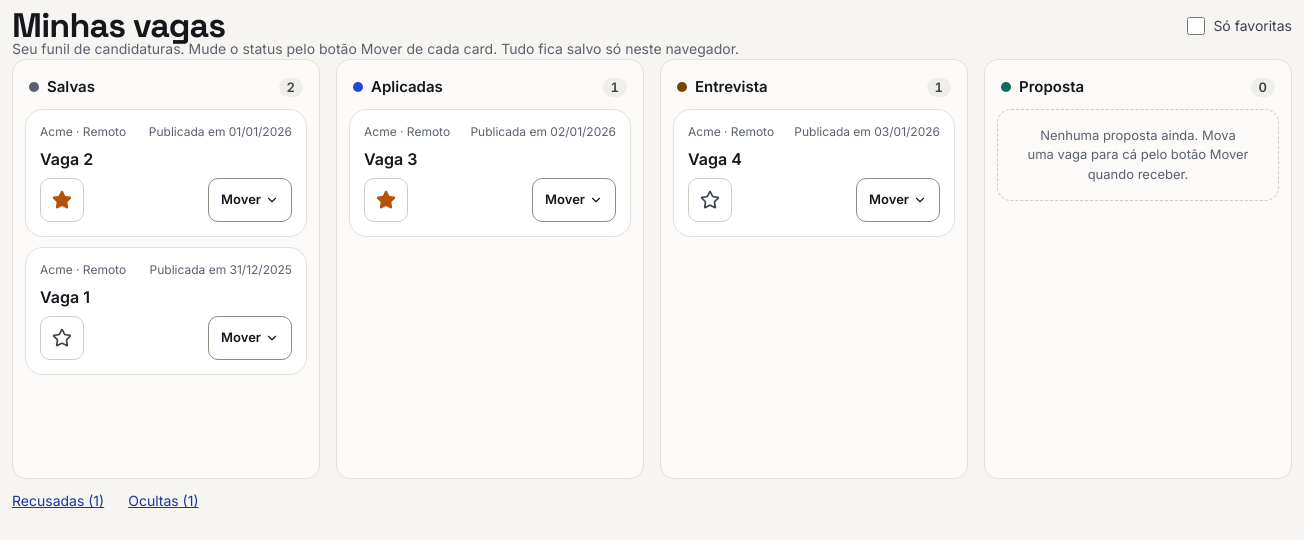
Test: Board (funil) › Recusadas e Ocultas abrem a lista filtrada na mesma tela
The width and height of the screenshot is (1304, 540).
Click the button "Ocultas (1)" at x=163, y=501, box [128,479,198,523]
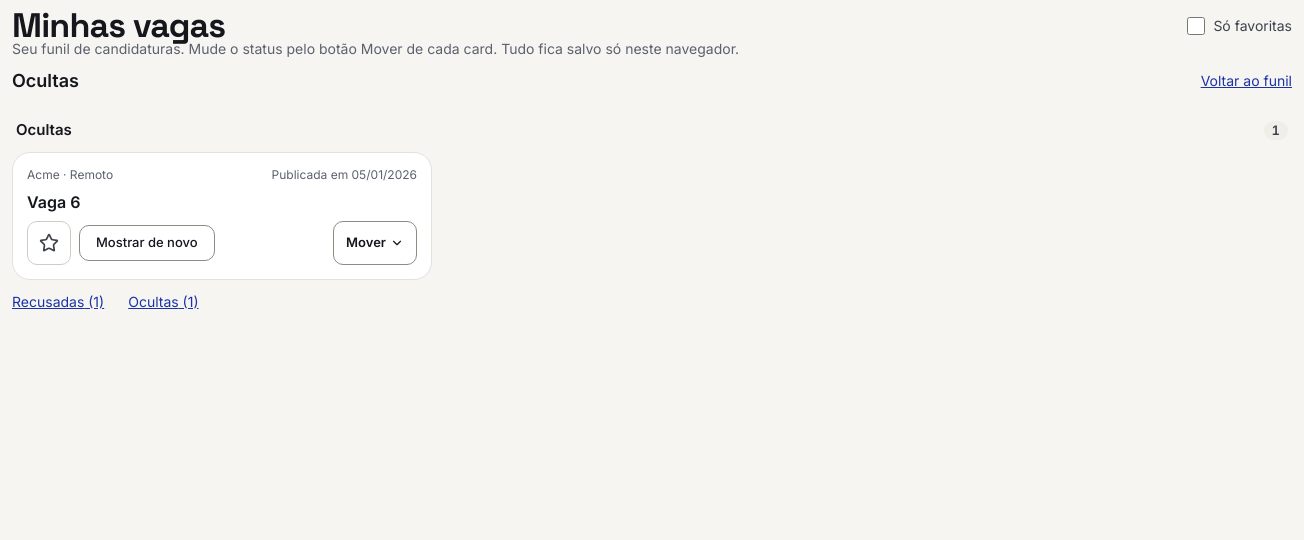
Click the button "Voltar ao funil" at x=1246, y=81, box [1201,59,1292,103]
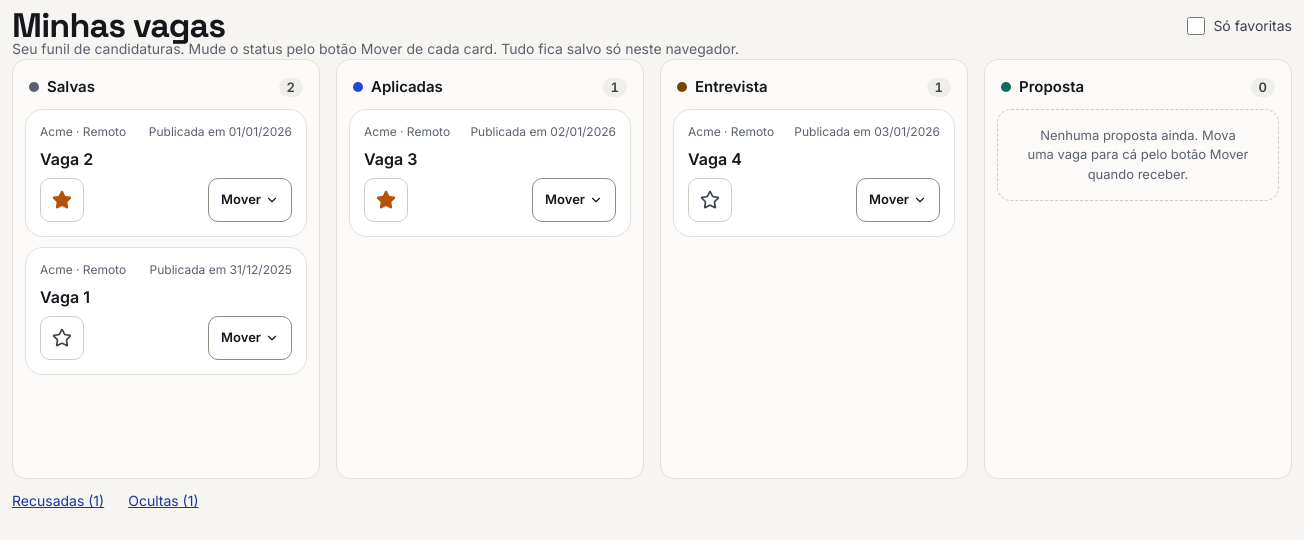
Expected: the element "Salvas" is shown, [12,59,320,479]
